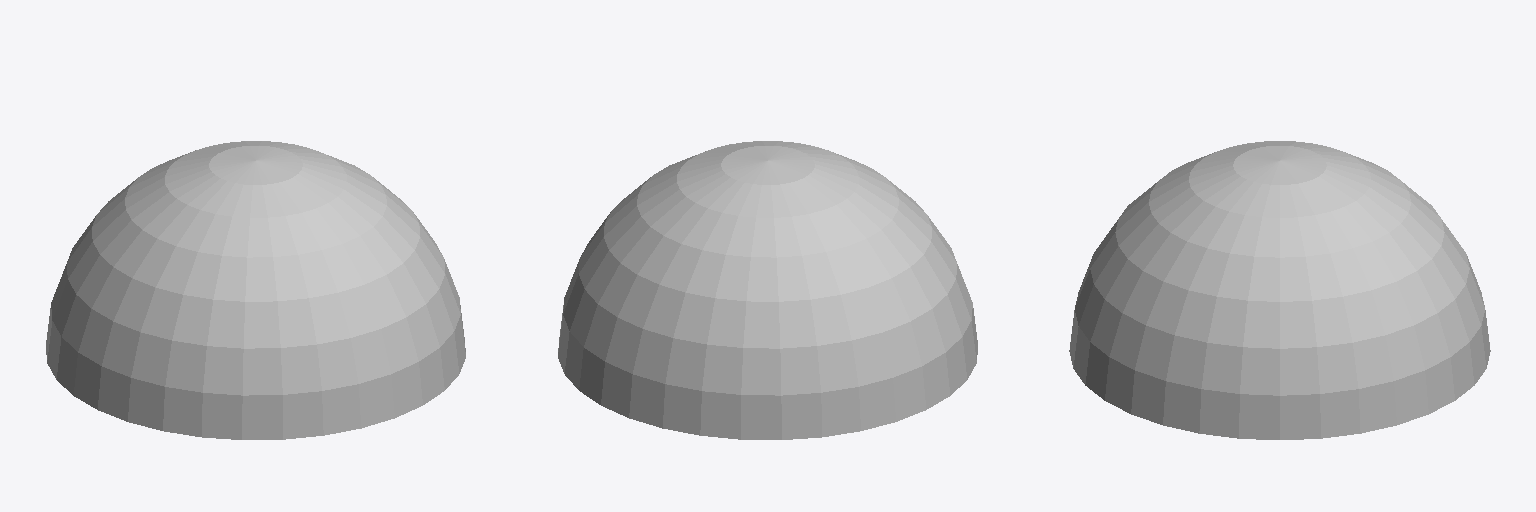
Rendered from dome.obj.
3 views of the same model, side by side, from view 1: azimuth 30°, elevation 25°; view 2: azimuth 150°, elevation 25°; view 3: azimuth 270°, elevation 25° (orthographic).
Parts seen in each view (by area): view 1: dome; view 2: dome; view 3: dome.
Boxes of the visible parts, <box> form: dome: <box>46,141,465,439</box>; dome: <box>558,141,977,439</box>; dome: <box>1069,141,1490,439</box>.
Bounding box in the file's own units: 2 × 1 × 2.